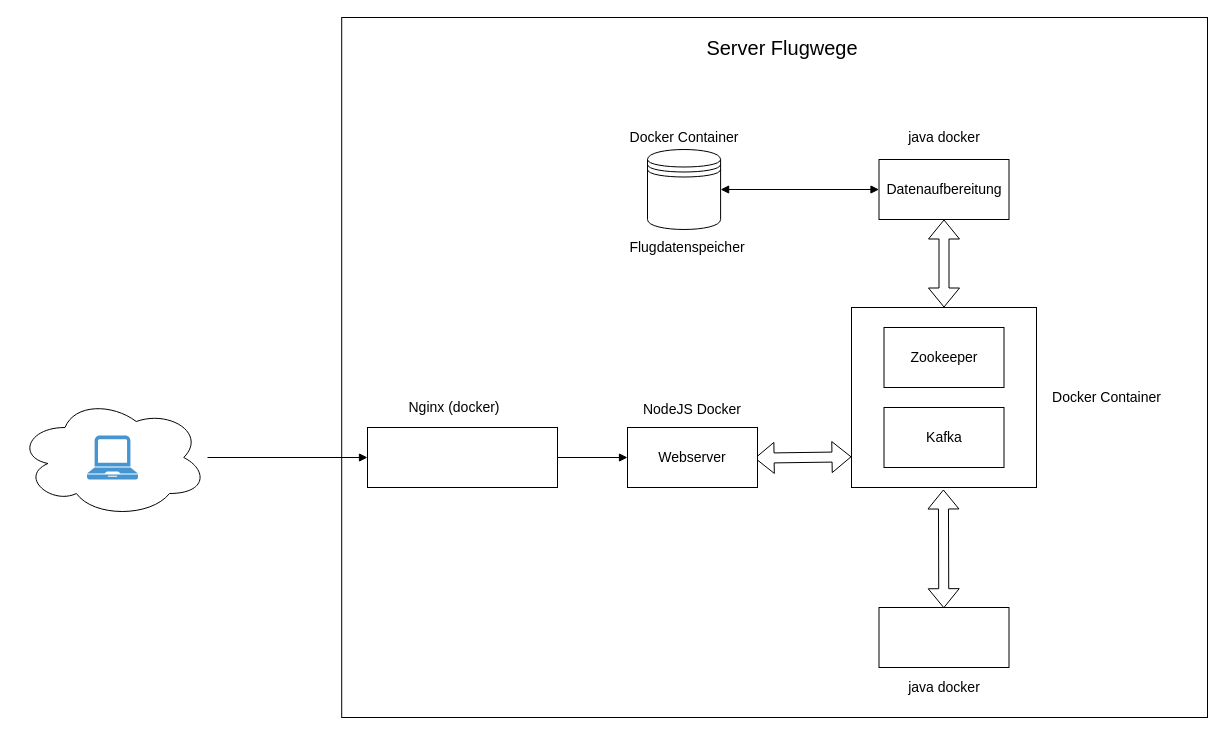
Some shapes in this 1225 by 743 pixel diagram are drawn without their labels. The shapes that lost their labels are listed below. From the top down, each one's centre as x and y in pixels, then its label:
(x=462, y=457): flugwege.de (SSL Zertifikat)
(x=943, y=637): Datenvisualiserung
